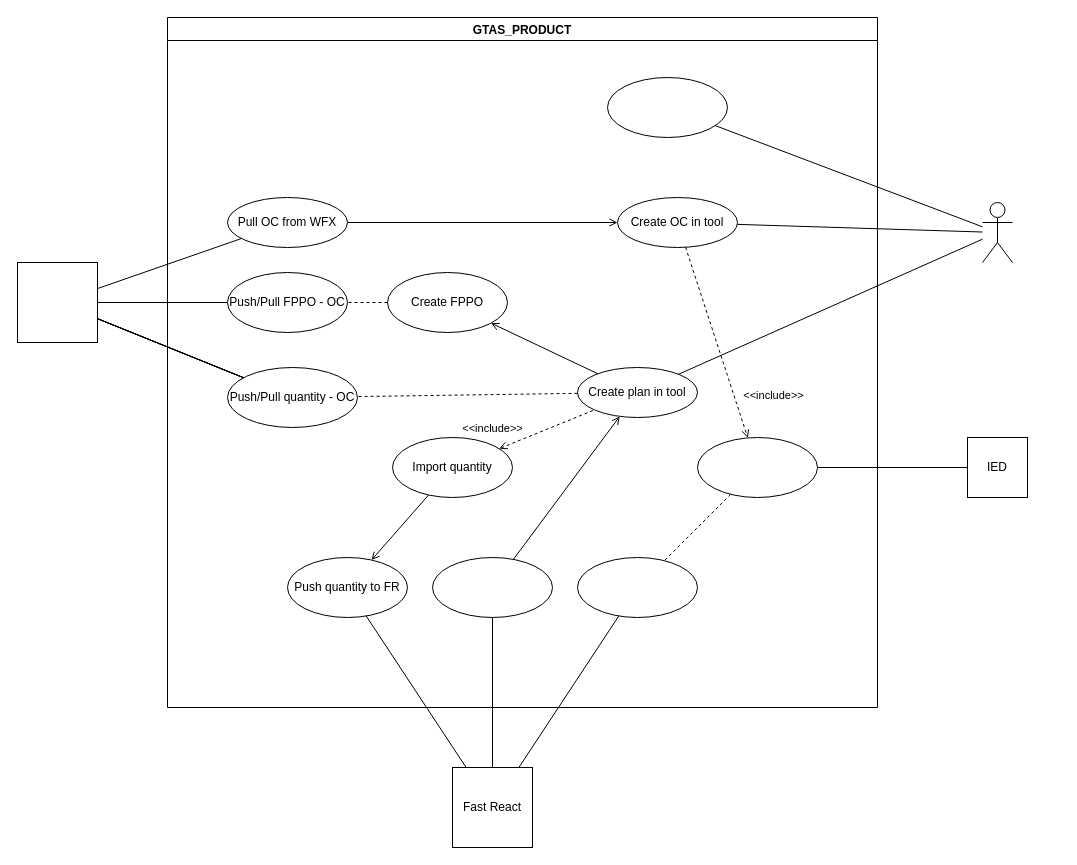
Image size: 1077x865. Some labels were removed from this diagram. Here are the shapes that lost their labels. From the top down, the centre of each, then its label:
At pixel 667 107: "Build factory revenue report".
At pixel 997 232: "GTAS_Production User".
At pixel 57 302: "WFX".
At pixel 757 467: "Import SAM/SMV".
At pixel 492 587: "Pull quantity from FR".
At pixel 637 587: "Push/Pull OC - tool".
